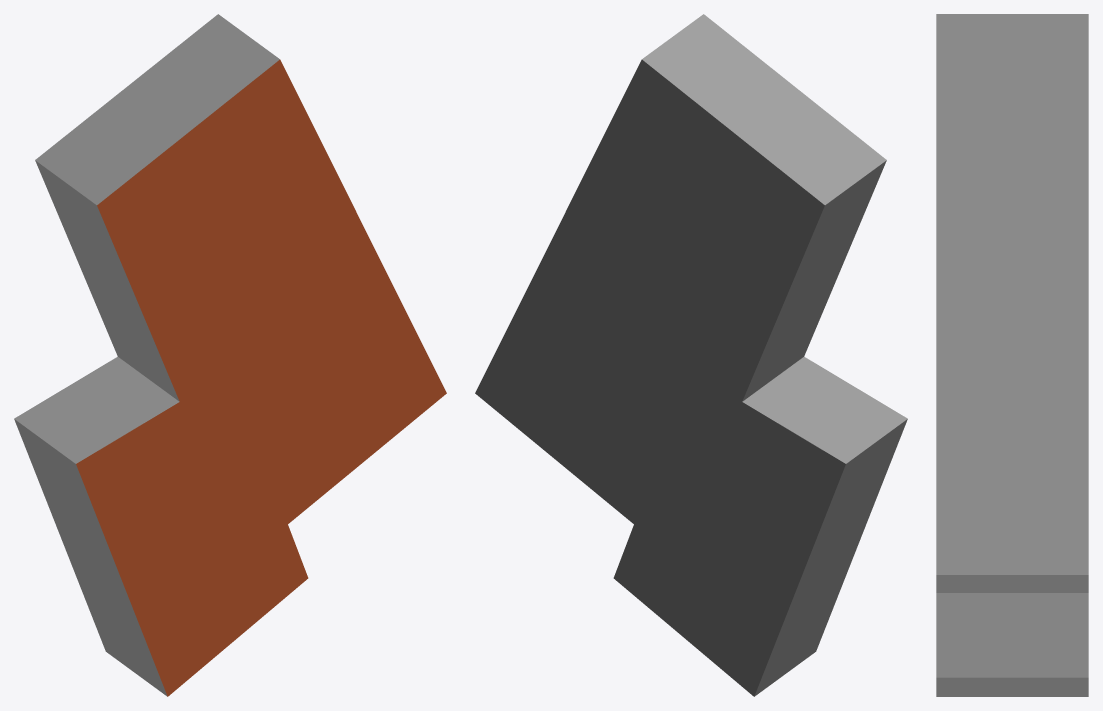
File: construction_1781_actual_A_Casa_h5m.obj
3 views of the same model, side by side, from view 1: azimuth 30°, elevation 25°; view 2: azimuth 150°, elevation 25°; view 3: azimuth 270°, elevation 25° (orthographic). The views are drawn at different scales.
Parts seen in each view (by area): view 1: construction_1781_actual_A_Casa; view 2: construction_1781_actual_A_Casa; view 3: construction_1781_actual_A_Casa.
Part boxes in pixels (x1,y1,x2,y2): construction_1781_actual_A_Casa: (14, 14, 446, 696); construction_1781_actual_A_Casa: (475, 14, 907, 696); construction_1781_actual_A_Casa: (936, 14, 1088, 696).
Bounding box in the file's own units: 17.29 × 27.17 × 5.
